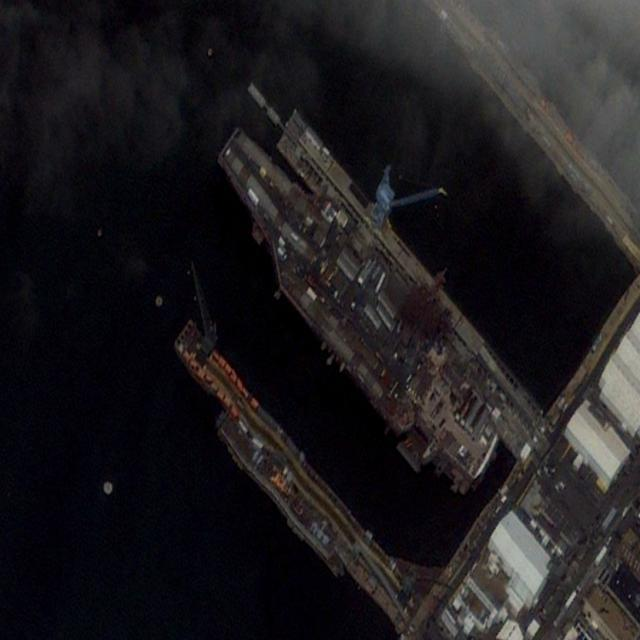Aircraft Carrier: (193, 86, 530, 511)
